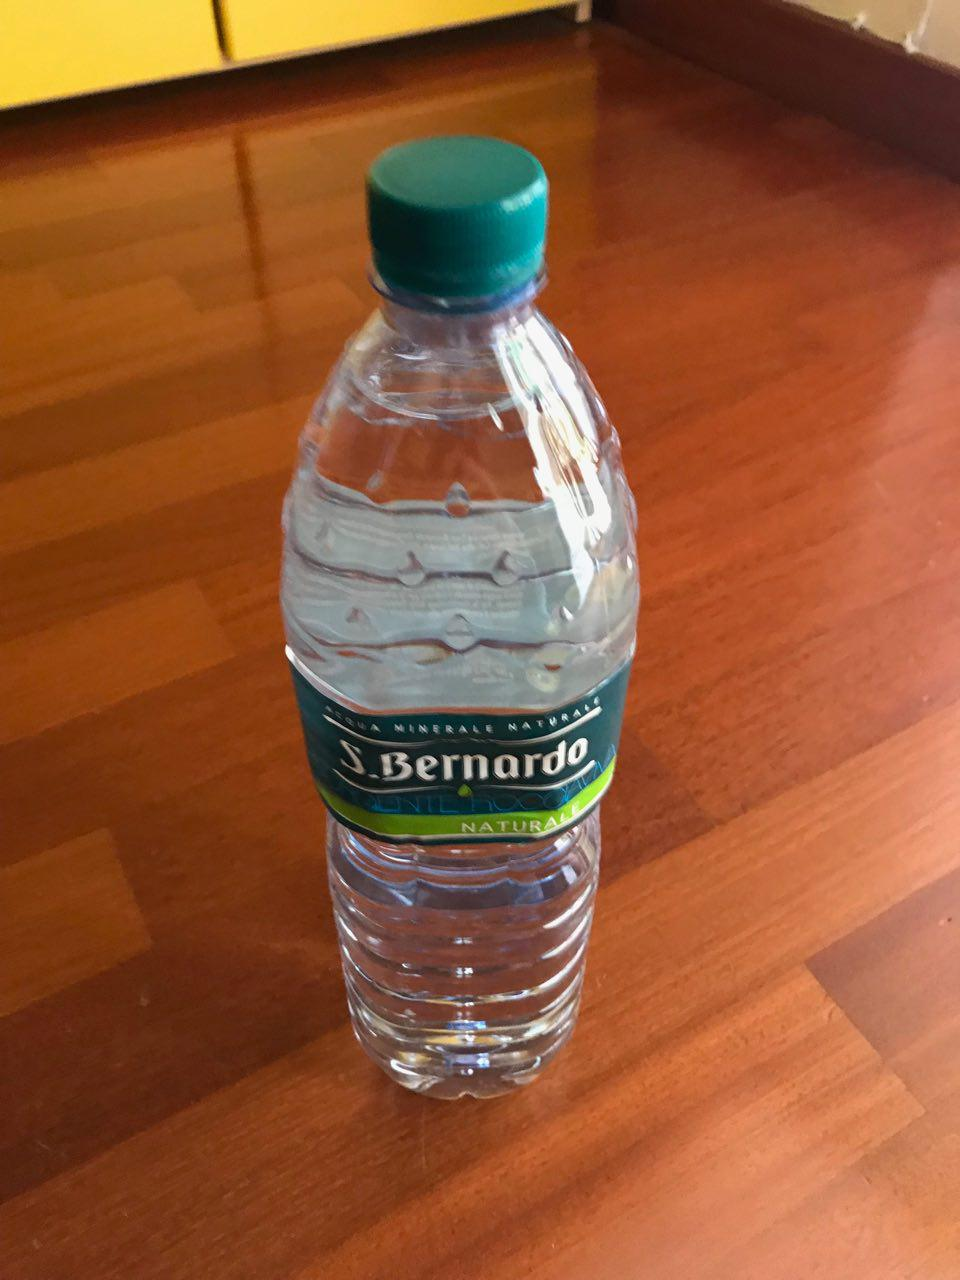san_bernardo: (275, 131, 642, 1104)
